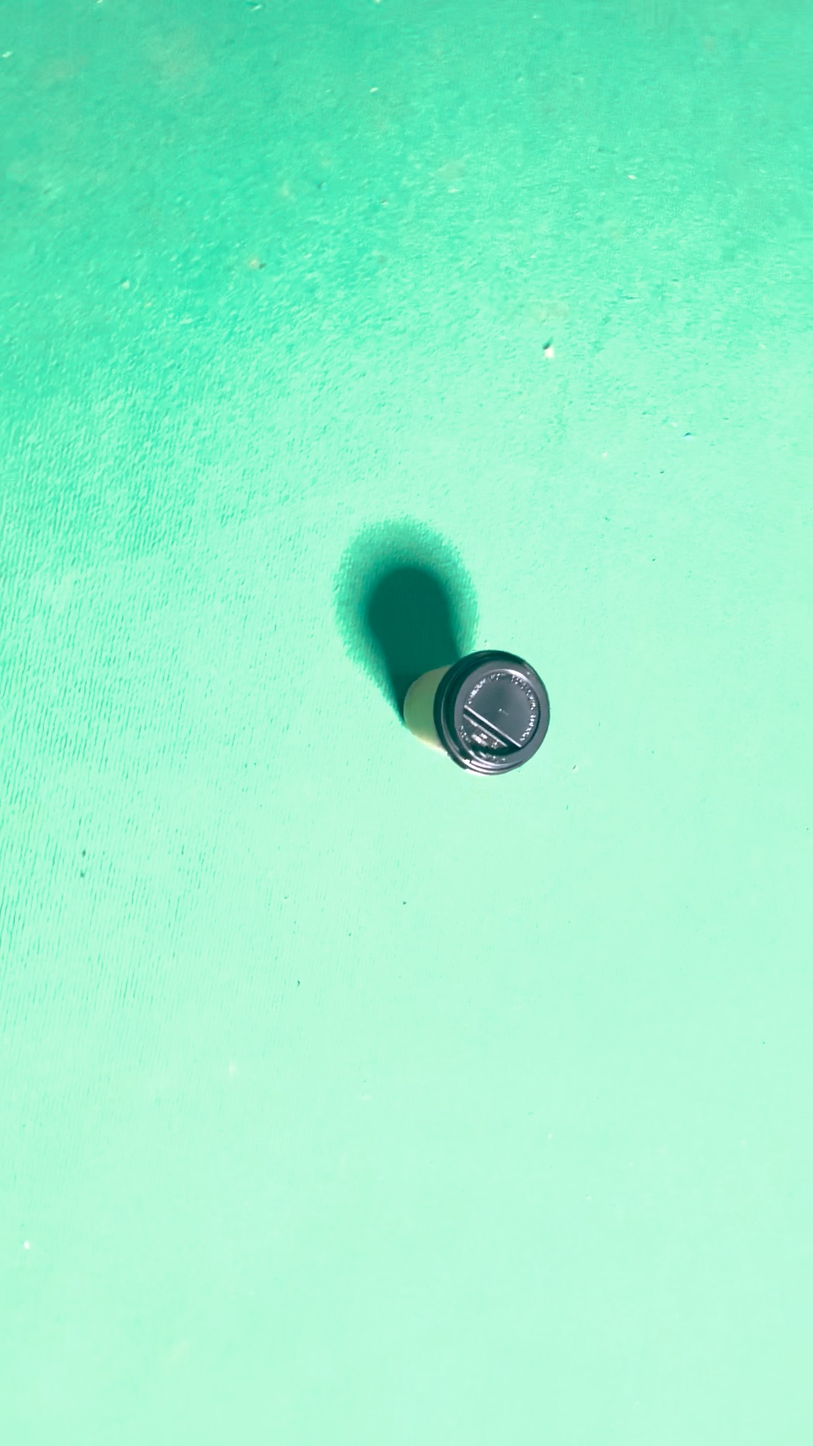cup: (407, 611, 487, 998)
